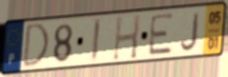8: (52, 23, 76, 64)
D: (21, 21, 51, 70)
E: (147, 12, 176, 58)
H: (111, 13, 142, 62)
I: (90, 17, 103, 64)
J: (179, 11, 202, 53)
